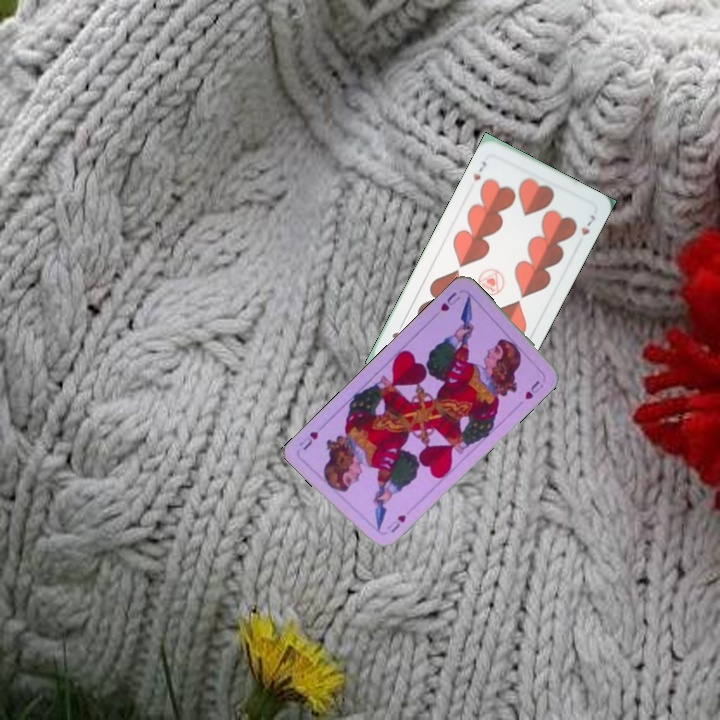H7: (469, 157, 490, 183)
HU: (436, 288, 463, 314), (387, 510, 409, 535)
